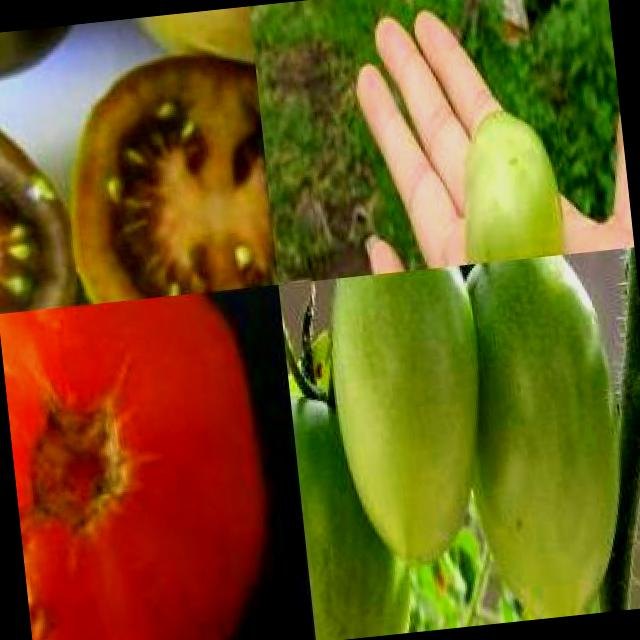Rotten_Tomato: (0, 286, 293, 640), (104, 6, 266, 184), (0, 74, 97, 313), (0, 19, 135, 186)
